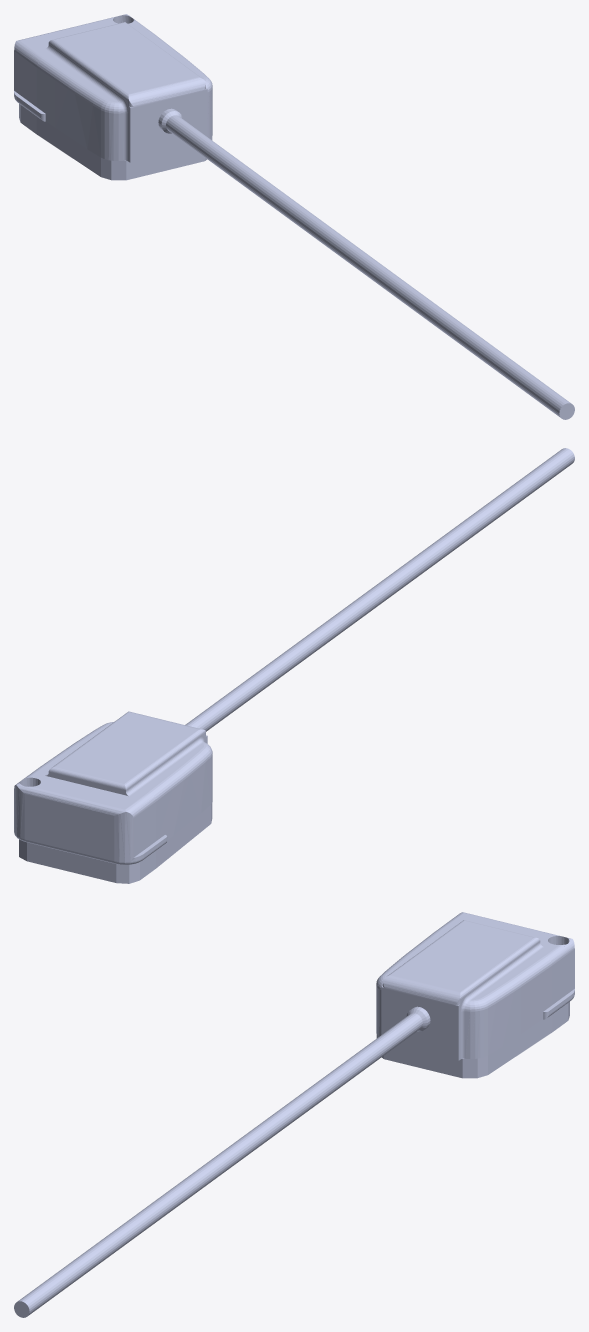
Rendered from tool_main.obj.
3 views of the same model, one above another, from view 1: azimuth 30°, elevation 25°; view 2: azimuth 150°, elevation 25°; view 3: azimuth 330°, elevation 25° (orthographic).
Size of the model in its own units: 0.0682 by 0.0431 by 0.464.
